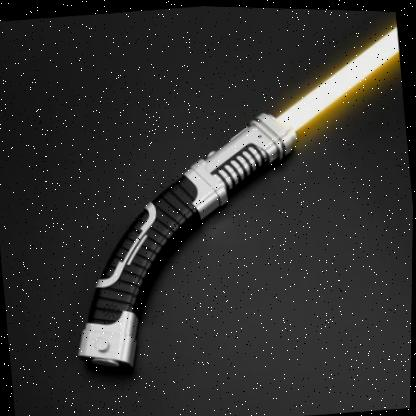sith_lightsaber: (62, 15, 399, 380)
